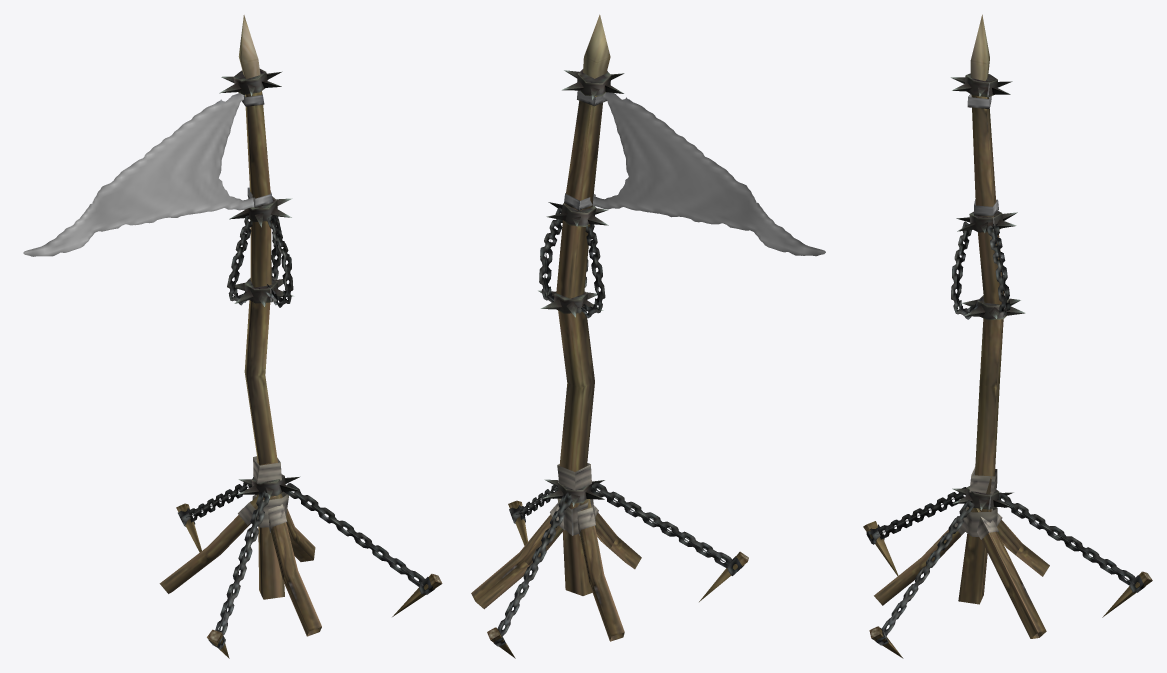
The model's file is DN_lv2_hsflag01.FBX.
The picture shows the model from 3 angles, left to right: view 1: azimuth 30°, elevation 25°; view 2: azimuth 150°, elevation 25°; view 3: azimuth 270°, elevation 25°; orthographic projection. The views are drawn at different scales.
Parts seen in each view (by area): view 1: DN_lv2_hsflag01; view 2: DN_lv2_hsflag01; view 3: DN_lv2_hsflag01.
Part boxes in pixels (x1,y1,x2,y2): DN_lv2_hsflag01: [23, 15, 442, 658]; DN_lv2_hsflag01: [471, 14, 825, 658]; DN_lv2_hsflag01: [863, 14, 1152, 658].
Size of the model in its own units: 232 by 357 by 158.
